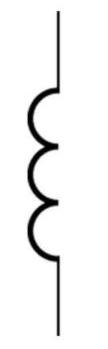inductor: (8, 50, 89, 279)
